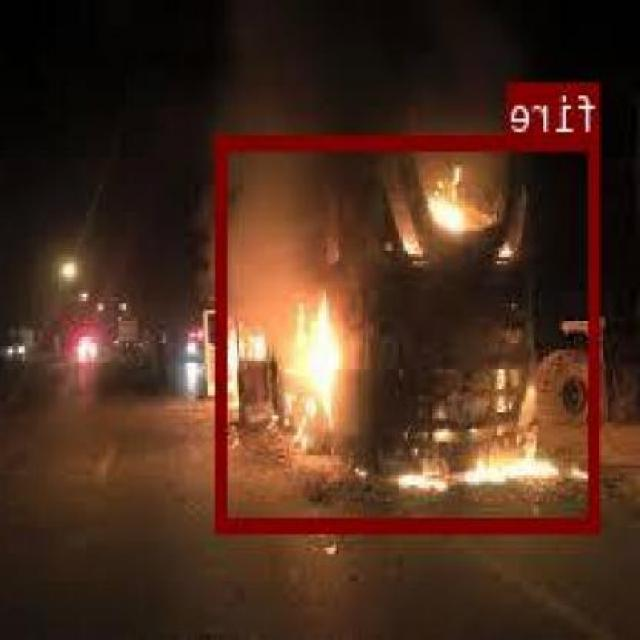Fire: (218, 133, 602, 530)
